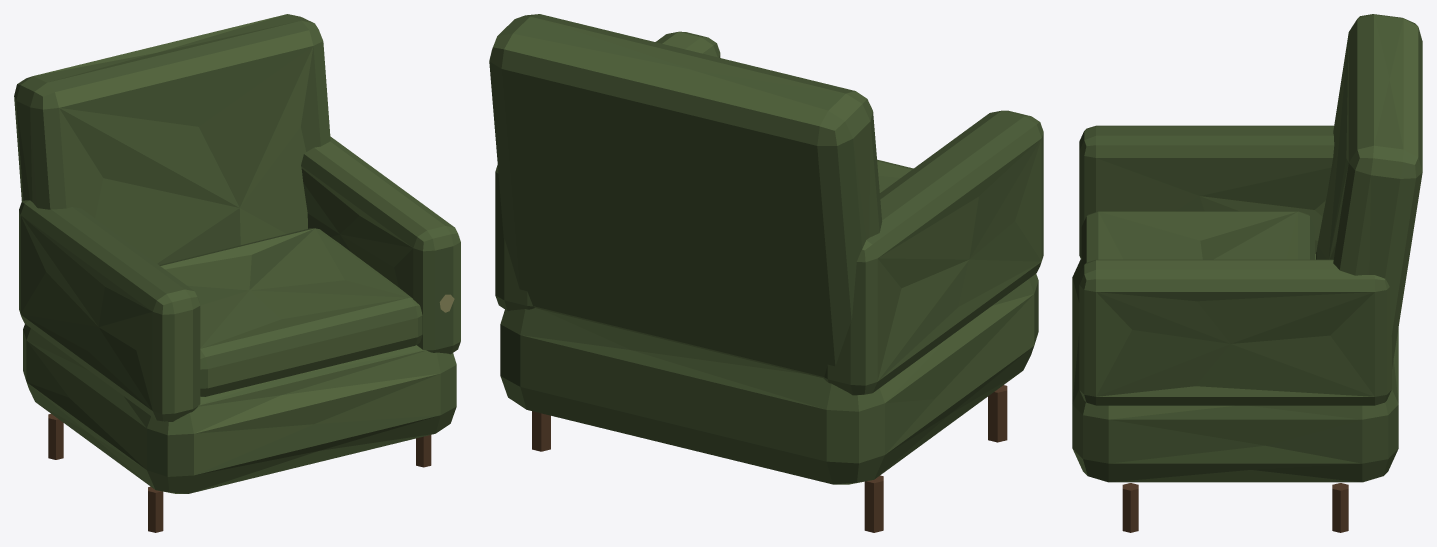
File: chair_wood_kreslo_idle.glb
3 renders of one model, left to right at view 1: azimuth 30°, elevation 25°; view 2: azimuth 150°, elevation 25°; view 3: azimuth 270°, elevation 25°, orthographic. The views are drawn at different scales.
Parts seen in each view (by area): view 1: chair_wood_kreslo_idle; view 2: chair_wood_kreslo_idle; view 3: chair_wood_kreslo_idle.
Part boxes in pixels (x1,y1,x2,y2): chair_wood_kreslo_idle: (14,14,460,532); chair_wood_kreslo_idle: (489,14,1043,532); chair_wood_kreslo_idle: (1072,14,1422,532).
Bounding box in the file's own units: 0.8 × 0.8986 × 0.751.
1 material, 1 textured.
